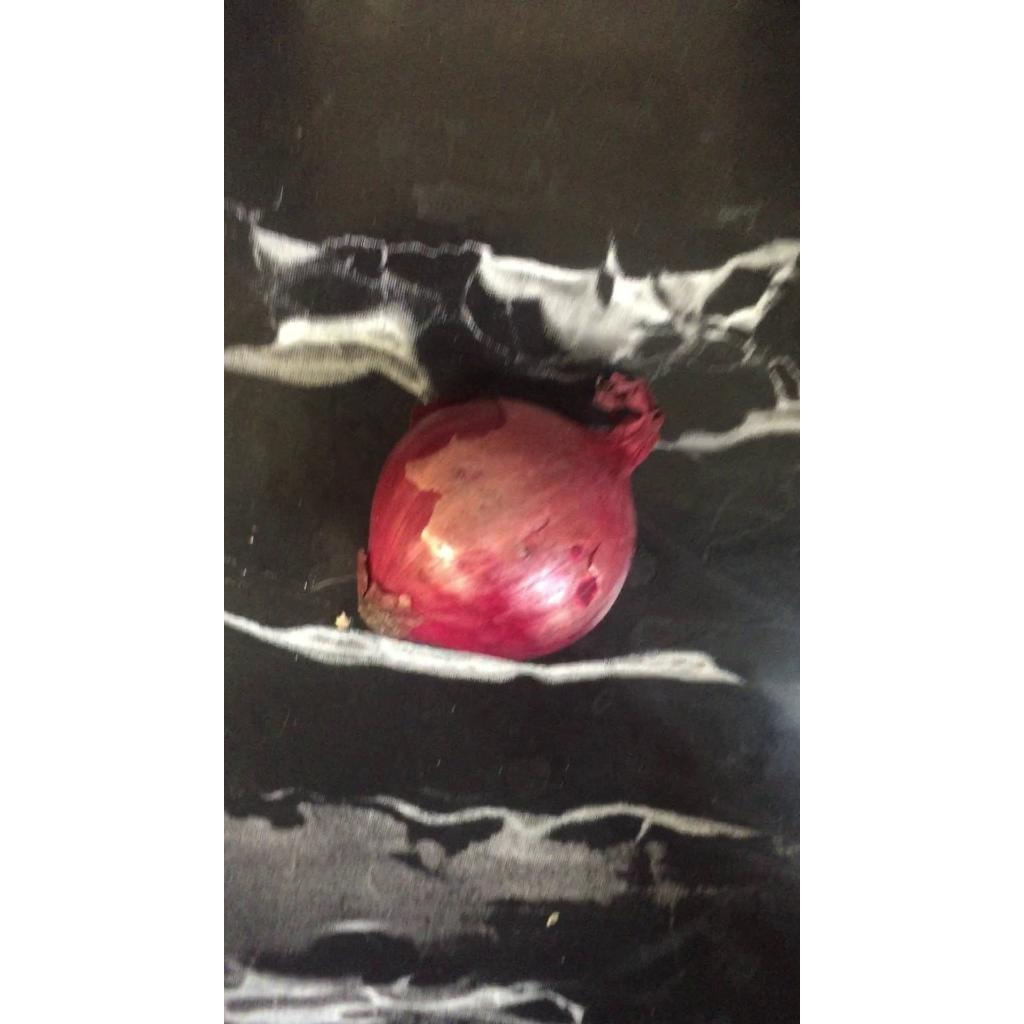Onion: (358, 373, 662, 661)
